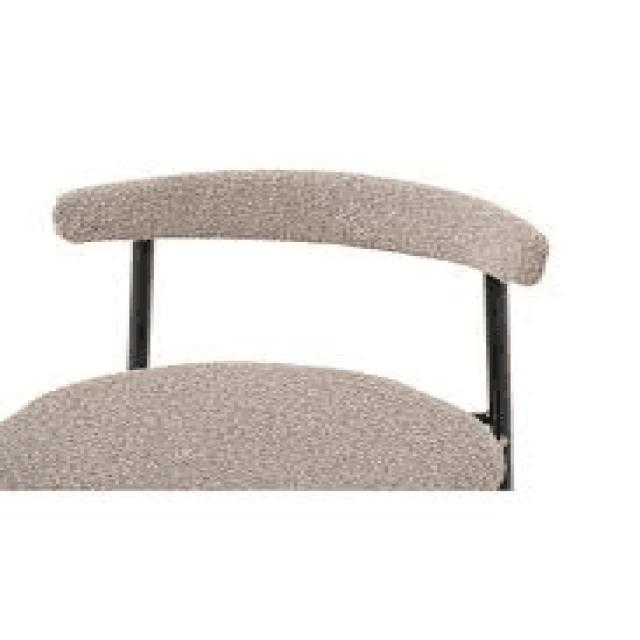chair: (1, 166, 548, 498)
